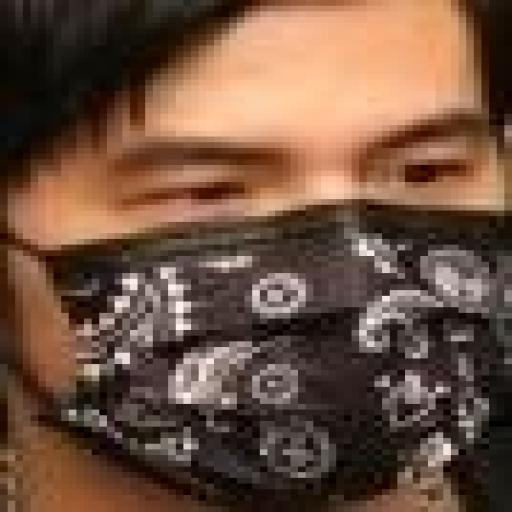mask: (15, 131, 512, 512)
